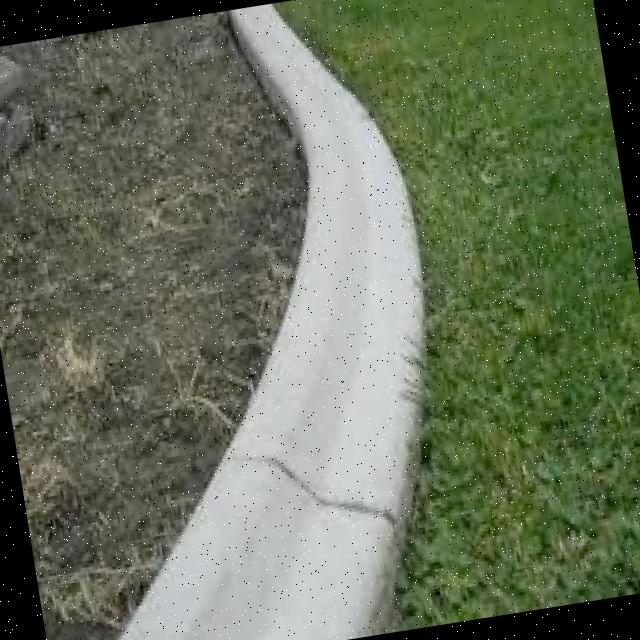curb: (227, 10, 427, 526), (114, 460, 407, 640)
